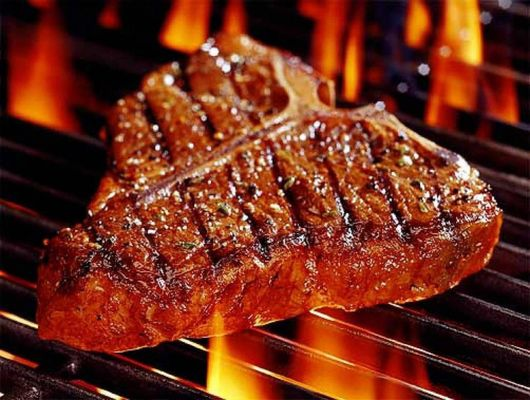sushi: (35, 24, 507, 345)
